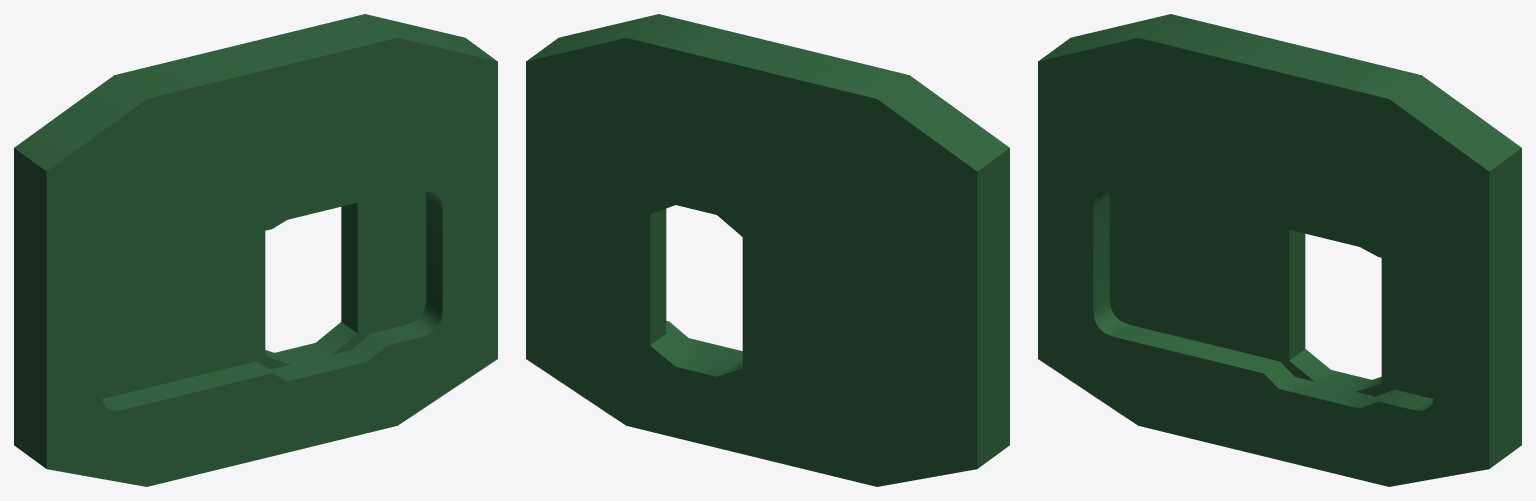
Rendered from Pereborka_SmallDoor_Bottom.FBX.
3 views of the same model, side by side, from view 1: azimuth 30°, elevation 25°; view 2: azimuth 150°, elevation 25°; view 3: azimuth 330°, elevation 25° (orthographic).
Visible parts, largest first — view 1: Pereborka_SmallDoor_Bottom; view 2: Pereborka_SmallDoor_Bottom; view 3: Pereborka_SmallDoor_Bottom.
Part boxes in pixels (x1=…): Pereborka_SmallDoor_Bottom: x1=14, y1=14, x2=497, y2=486; Pereborka_SmallDoor_Bottom: x1=526, y1=14, x2=1009, y2=486; Pereborka_SmallDoor_Bottom: x1=1038, y1=14, x2=1521, y2=486.
Bounding box in the file's own units: 800 × 657 × 100.
